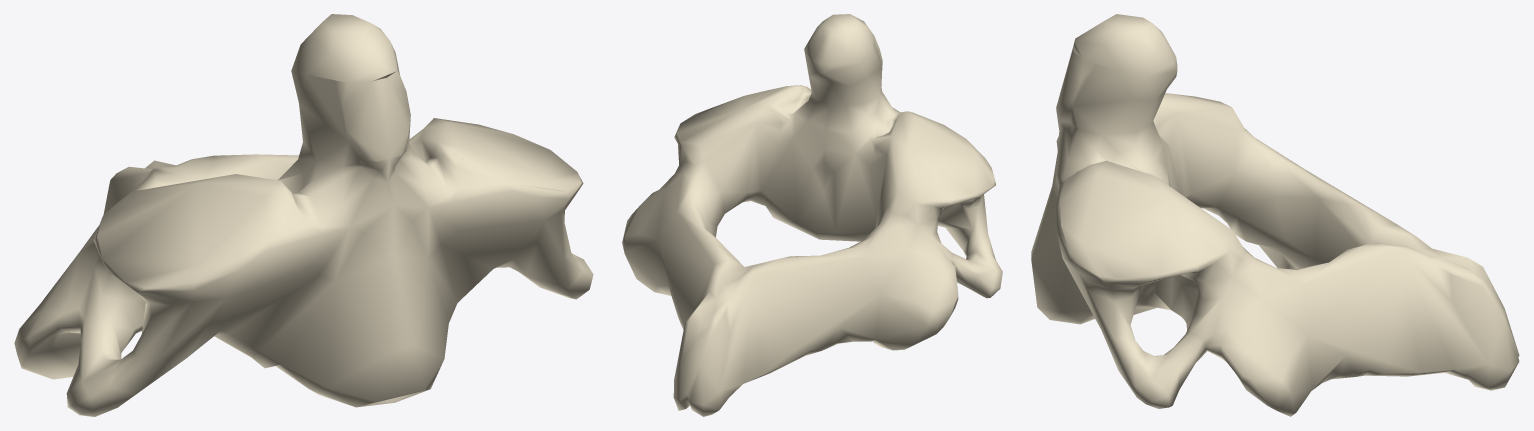
File: esqueleto-axis-c2.glb
3 renders of one model, left to right at view 1: azimuth 30°, elevation 25°; view 2: azimuth 150°, elevation 25°; view 3: azimuth 270°, elevation 25°, orthographic. The views are drawn at different scales.
Visible parts, largest first — view 1: Axis (C2); view 2: Axis (C2); view 3: Axis (C2).
Boxes of the visible parts, box(x1,y1,x2,y2) form: Axis (C2): box(14, 14, 593, 416); Axis (C2): box(622, 14, 1002, 416); Axis (C2): box(1031, 14, 1519, 416).
Bounding box in the file's own units: 0.0536 × 0.0429 × 0.0527.
